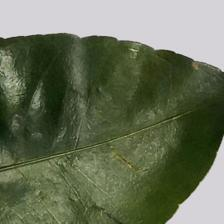healthy: (0, 42, 206, 224)
